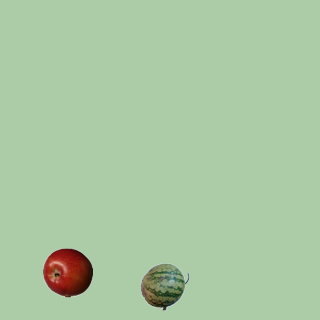Apple Braeburn: (42, 247, 92, 297)
Watermelon: (139, 261, 189, 311)
